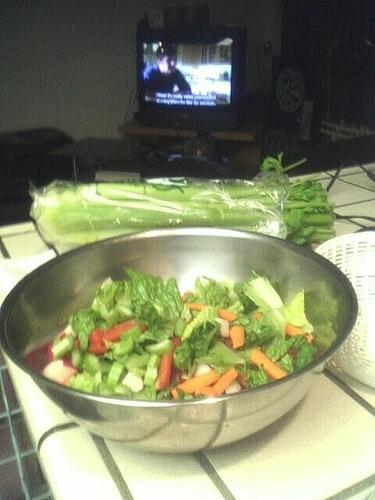carrot: (169, 369, 222, 400), (250, 350, 286, 380), (186, 304, 238, 323), (212, 368, 238, 396), (196, 380, 222, 396), (230, 325, 245, 350), (286, 324, 302, 336), (254, 312, 261, 320)
celery: (37, 204, 333, 244), (44, 224, 336, 246), (156, 180, 336, 211), (76, 183, 184, 214), (92, 184, 213, 202), (68, 307, 101, 353), (123, 351, 150, 377), (51, 333, 75, 359), (107, 360, 126, 388), (146, 339, 172, 356), (81, 352, 99, 376), (122, 372, 143, 392), (137, 334, 159, 352), (214, 317, 230, 338), (144, 368, 158, 388), (98, 382, 113, 396), (102, 352, 110, 362)
lettuce: (230, 282, 302, 362), (123, 266, 186, 342), (172, 306, 226, 380), (90, 274, 136, 328), (66, 354, 114, 396), (274, 288, 314, 334), (195, 340, 245, 374), (68, 308, 102, 352), (195, 274, 231, 308), (132, 378, 178, 402), (236, 362, 272, 389), (292, 342, 318, 369), (175, 385, 209, 401), (145, 339, 174, 357), (117, 280, 134, 310), (110, 337, 134, 355), (275, 353, 294, 375), (114, 384, 133, 398)
